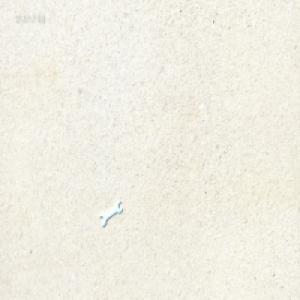Wrench: (100, 197, 123, 225)
